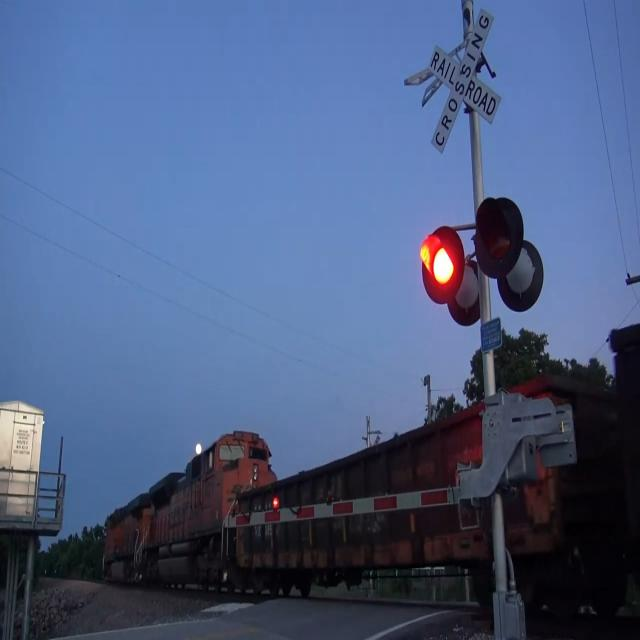gondola: (225, 362, 609, 612)
locomotive: (145, 427, 280, 596)
